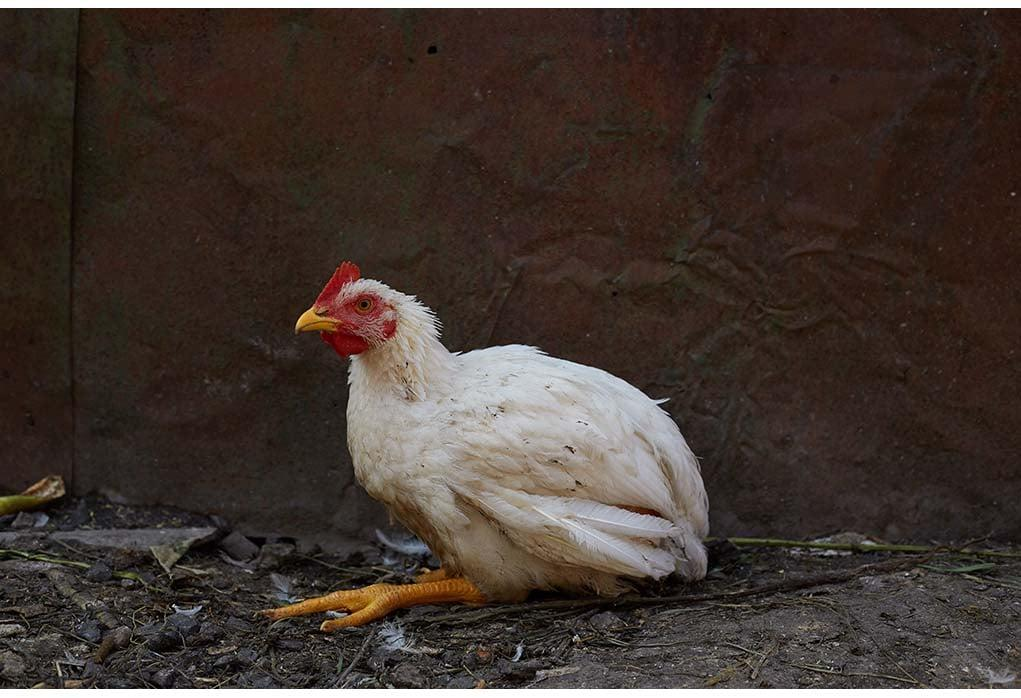AbNormal: (252, 253, 710, 627)
